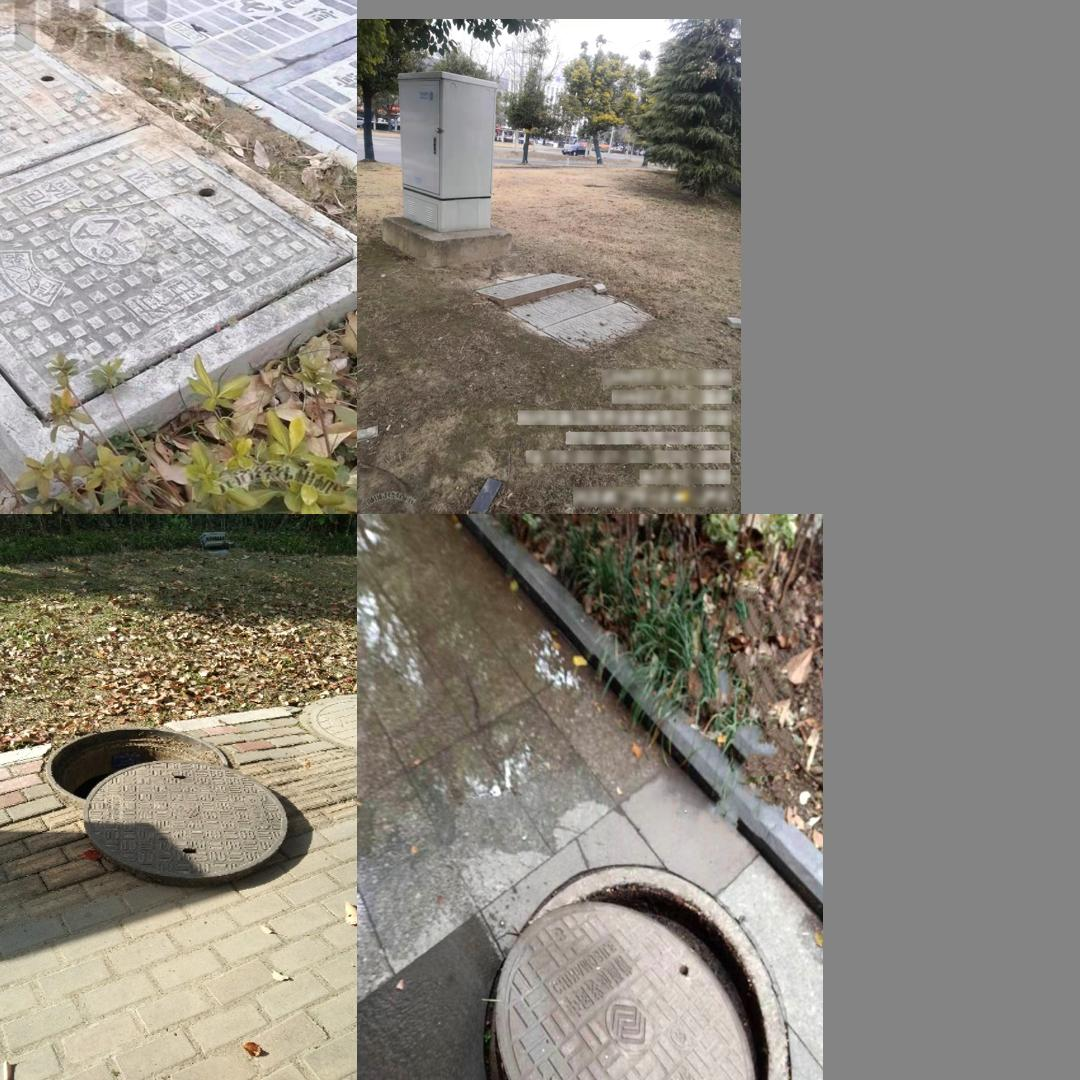good: (0, 15, 357, 485), (71, 0, 357, 172)
uncovered: (482, 864, 791, 1080), (27, 701, 294, 878), (474, 270, 659, 355), (0, 0, 163, 33)
